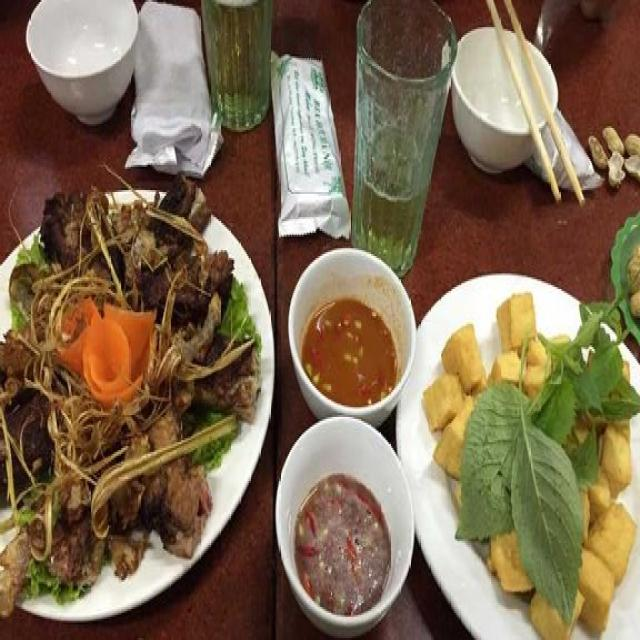bia: (357, 1, 452, 276), (204, 0, 274, 134)
dau hu chien: (420, 289, 640, 640)
mam nem: (289, 255, 417, 410)
mam tom: (274, 423, 414, 640)
